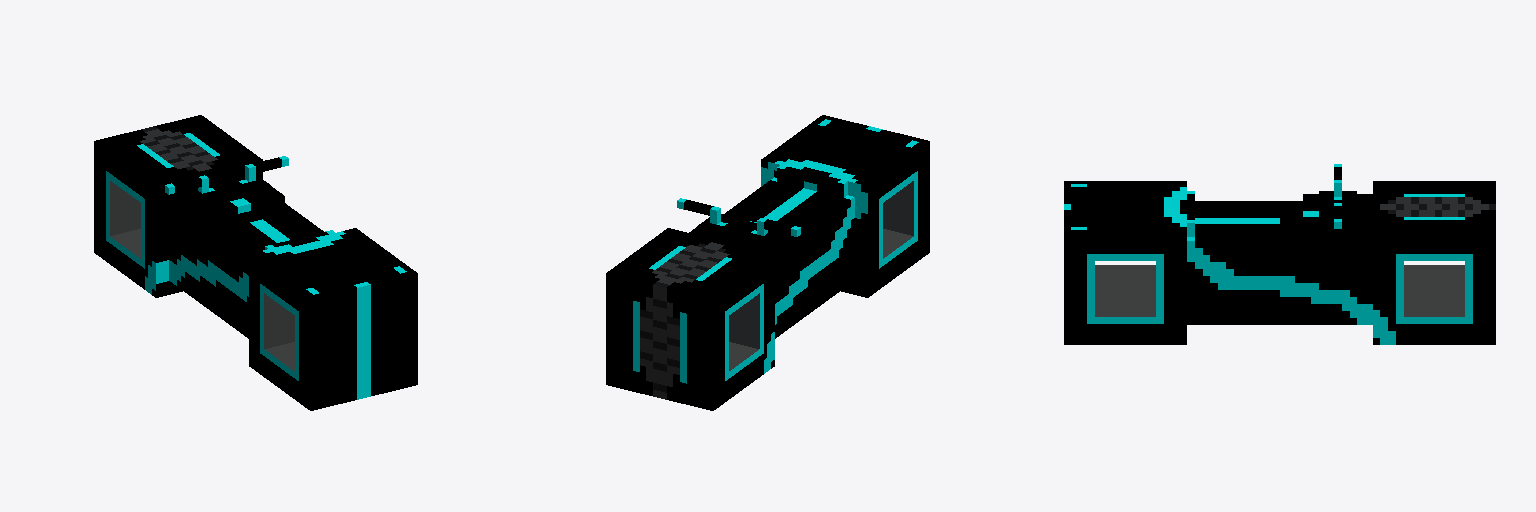
3 renders of one model, left to right at view 1: azimuth 30°, elevation 25°; view 2: azimuth 150°, elevation 25°; view 3: azimuth 270°, elevation 25°, orthographic.
Visible parts, largest first — view 1: cube, LowerControlBase, UpperControlBase; view 2: cube, UpperControlBase, BackRest; view 3: cube, LowerControlBase, UpperControlBase.
Boxes of the visible parts, x1=… form: cube: x1=94, y1=115, x2=417, y2=410; LowerControlBase: x1=169, y1=172, x2=284, y2=221; UpperControlBase: x1=184, y1=172, x2=269, y2=207; cube: x1=606, y1=115, x2=929, y2=410; UpperControlBase: x1=696, y1=214, x2=781, y2=249; BackRest: x1=777, y1=165, x2=847, y2=197; cube: x1=1064, y1=181, x2=1495, y2=344; LowerControlBase: x1=1303, y1=194, x2=1372, y2=240; UpperControlBase: x1=1319, y1=191, x2=1356, y2=229.
Size of the model in its own units: 1.12 by 1.12 by 3.5.
1 materials, 1 textured.